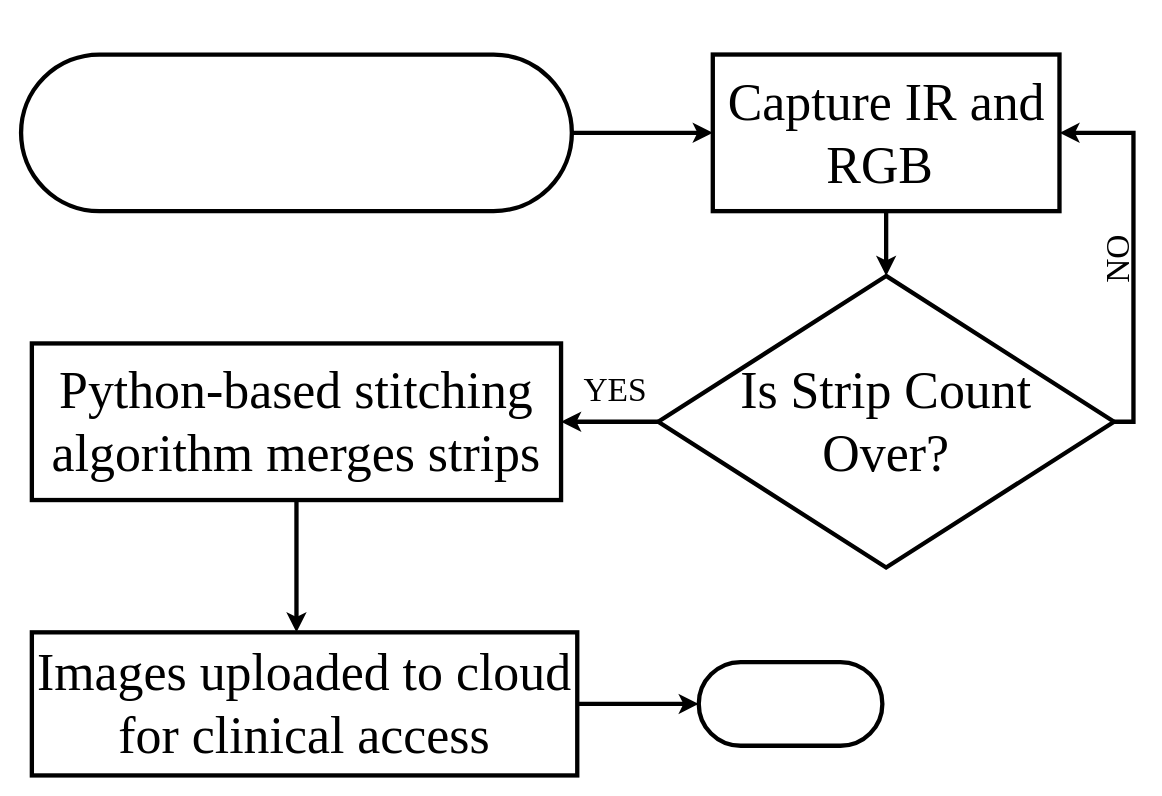
The diagram is 1162 pixels wide and 796 high, and some of its shapes have lost their labels. The shapes that lost their labels are listed below. From the top down, each one's box as (x1, y1, x2, y2) in pixels, then its label:
(18, 52, 573, 213): Place the Foot (Auto Start from sleep)
(696, 659, 884, 747): Sleep
